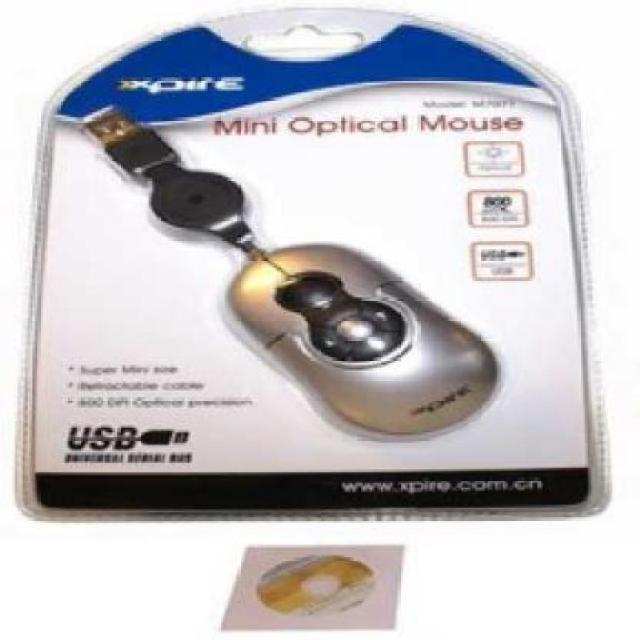mause: (240, 245, 515, 468)
